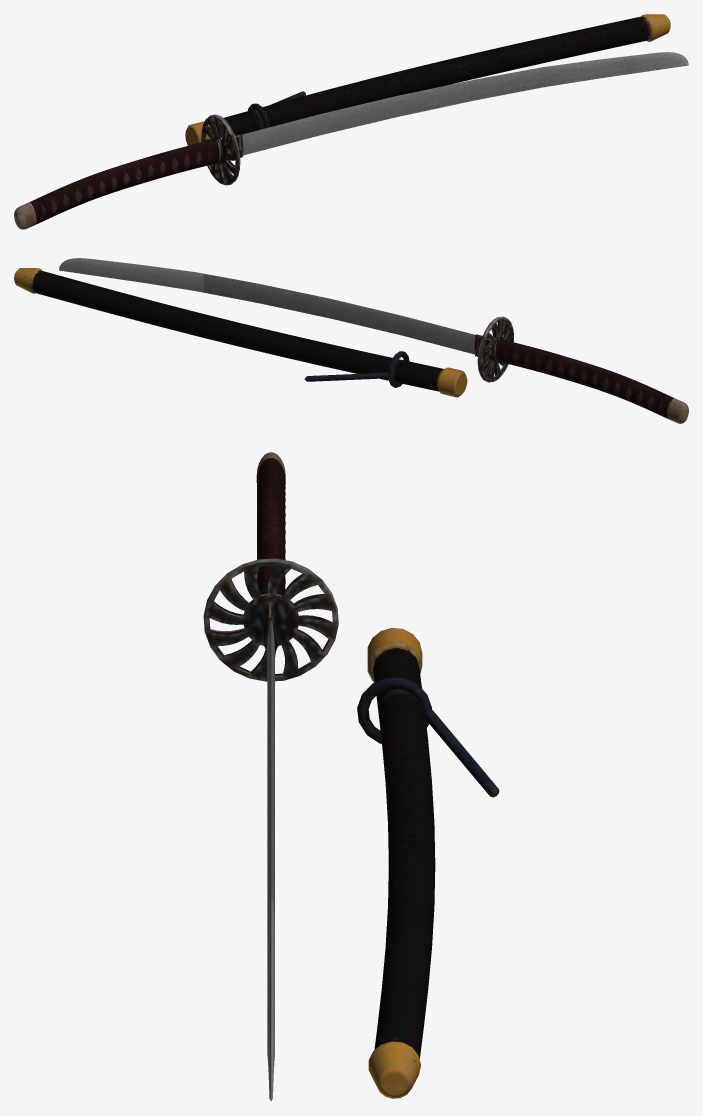
The model's file is katana.glb.
3 views of the same model, one above another, from view 1: azimuth 30°, elevation 25°; view 2: azimuth 150°, elevation 25°; view 3: azimuth 270°, elevation 25° (orthographic). The views are drawn at different scales.
Parts seen in each view (by area): view 1: katana; view 2: katana; view 3: katana.
Part boxes in pixels (bbox=[...]): katana: bbox=[14, 14, 688, 229]; katana: bbox=[14, 258, 688, 423]; katana: bbox=[203, 452, 499, 1101].
Size of the model in its own units: 1.02 by 0.0931 by 0.2037.
Materials: 1 (1 with a texture image).
